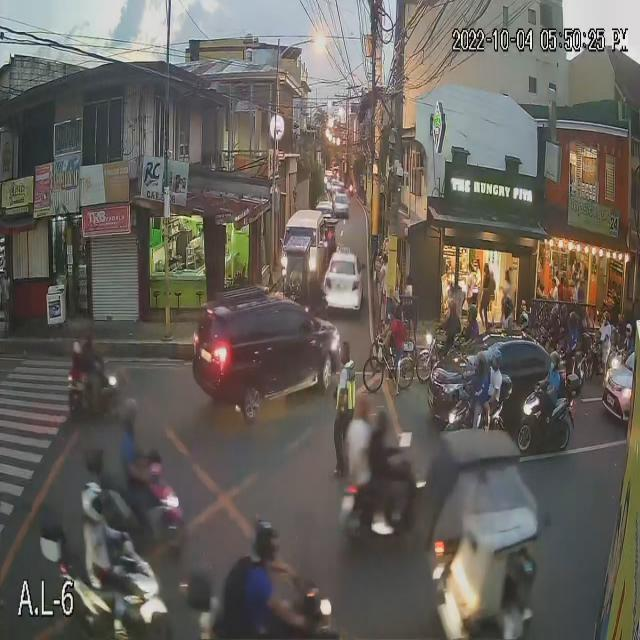helmet: (251, 514, 291, 569), (116, 389, 142, 435), (371, 401, 396, 441), (80, 482, 104, 523), (350, 391, 372, 423), (463, 352, 484, 383), (544, 351, 564, 380), (494, 291, 514, 318), (442, 296, 460, 324), (463, 303, 483, 324), (82, 326, 98, 351), (557, 302, 571, 327), (547, 305, 560, 331), (66, 341, 85, 358), (566, 311, 582, 331), (517, 307, 530, 327), (599, 309, 610, 331), (493, 347, 502, 372), (623, 322, 632, 336)
motorcycle: (40, 537, 165, 640), (183, 573, 333, 640), (94, 464, 182, 539), (339, 471, 418, 539), (515, 385, 575, 452), (61, 372, 122, 434), (439, 391, 516, 438), (546, 342, 588, 387), (416, 332, 454, 375), (602, 349, 628, 379)
rider: (230, 515, 298, 621), (76, 487, 127, 578), (342, 394, 376, 479), (115, 395, 143, 491), (367, 403, 400, 468), (464, 349, 491, 404), (436, 293, 463, 347), (542, 350, 564, 411), (461, 301, 489, 345), (83, 324, 103, 380), (485, 347, 507, 395), (491, 289, 516, 327), (65, 337, 85, 382), (561, 310, 581, 351), (596, 307, 614, 349), (556, 303, 573, 342), (546, 302, 560, 344), (516, 309, 531, 335), (622, 321, 633, 353)
